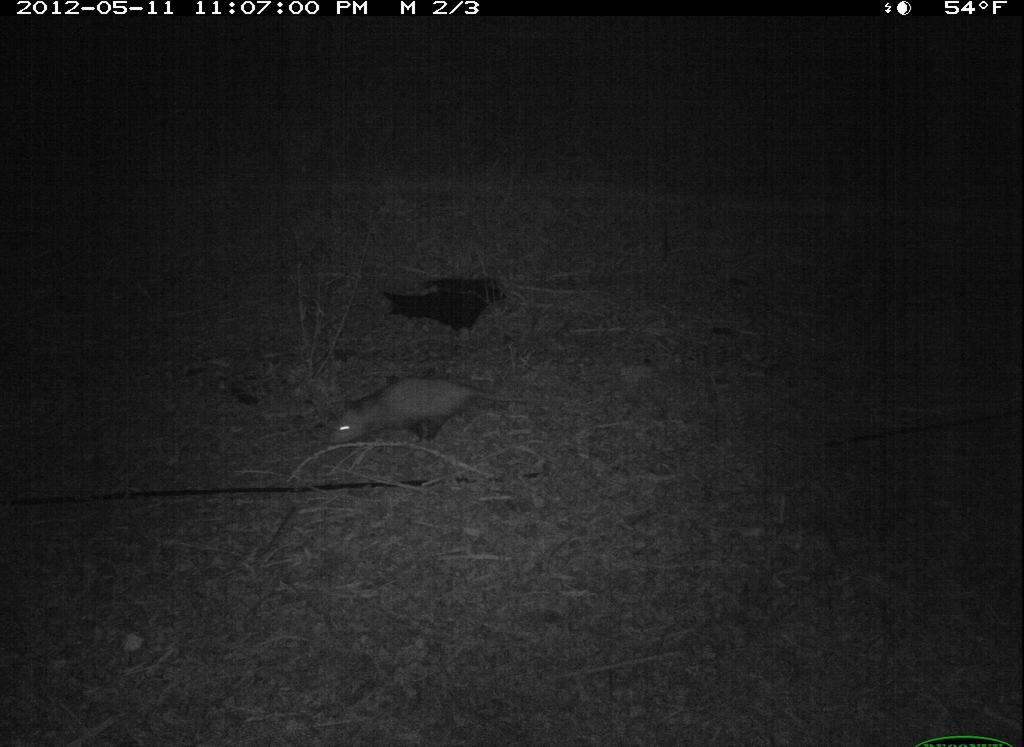opossum: (310, 355, 523, 488)
